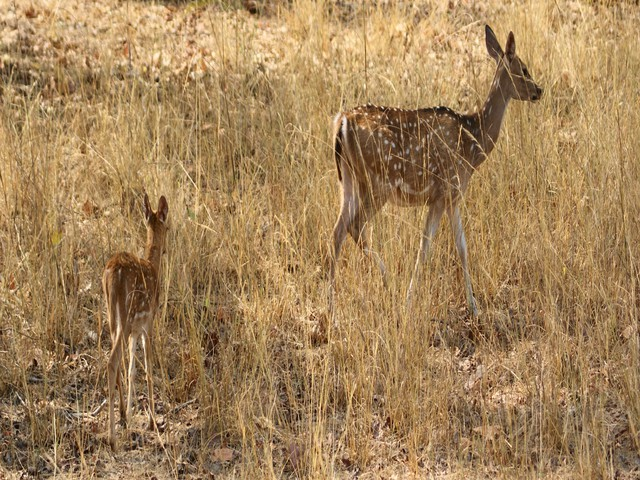deer: (313, 23, 542, 315), (98, 186, 177, 440)
